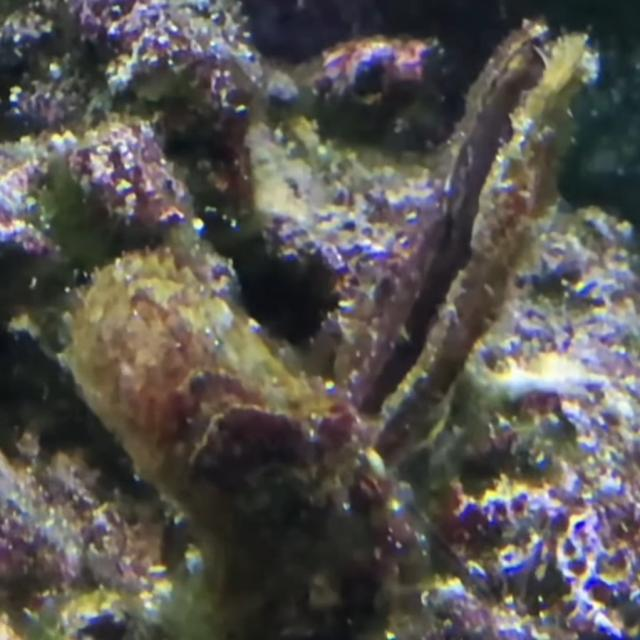Oyster-Indeterminate: (70, 254, 396, 603)
Oyster-Open: (310, 20, 598, 468)
